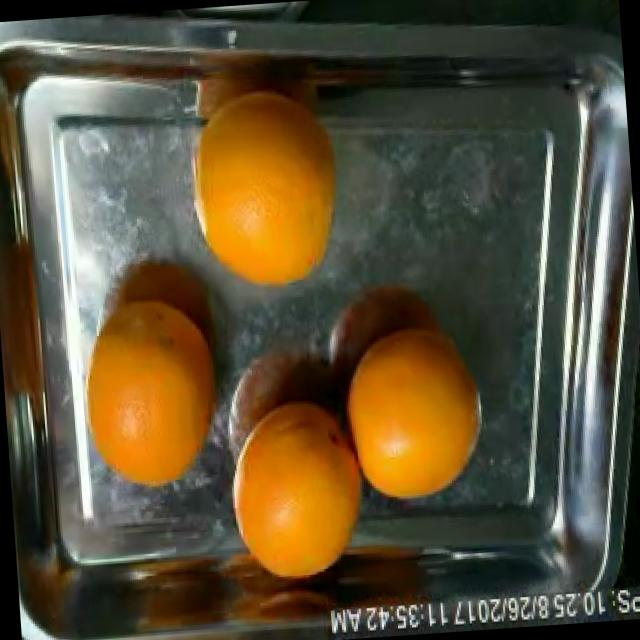Fruit: (331, 296, 502, 524), (188, 102, 358, 308), (225, 384, 381, 601)
